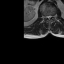CCS_normal: (48, 14, 50, 21)
LFS_stenosis: (51, 14, 53, 18)
LLS_stenosis: (50, 14, 51, 19)
RFS_stenosis: (44, 14, 46, 19)
RLS_normal: (46, 14, 48, 19)
